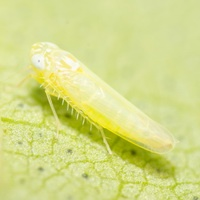insect: (31, 42, 174, 153)
